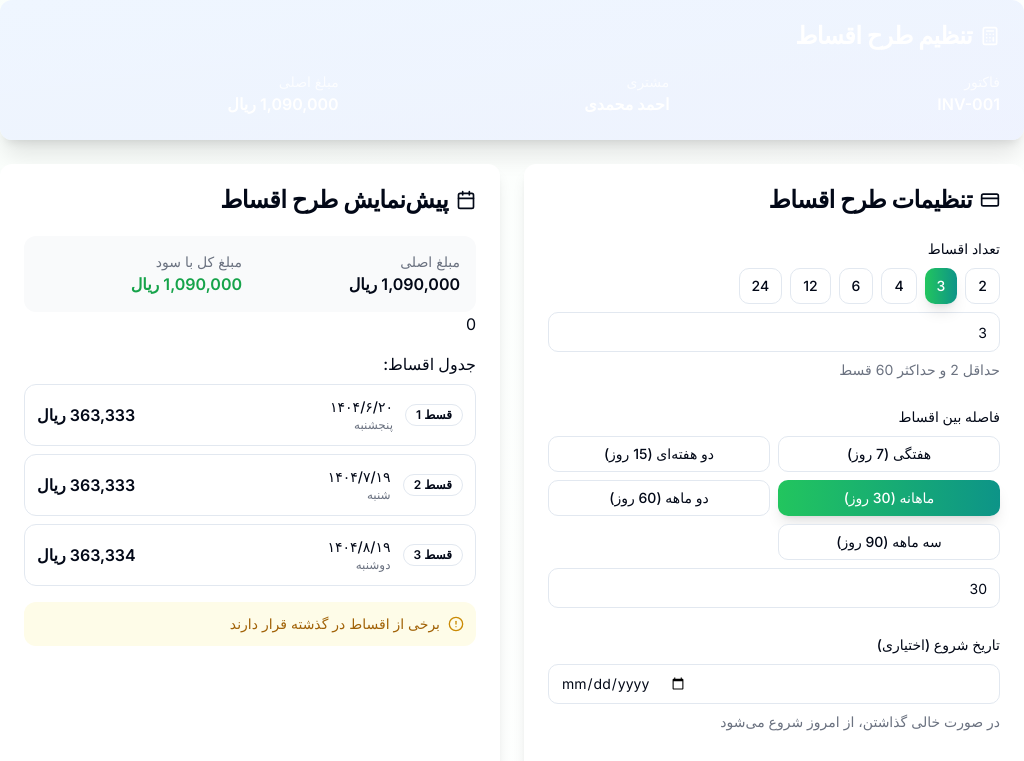
Test case: InstallmentPlanSetup › updates interval when button is clicked
Click the button "هفتگی (7 روز)" at (889, 454), box [778,436,1000,472]
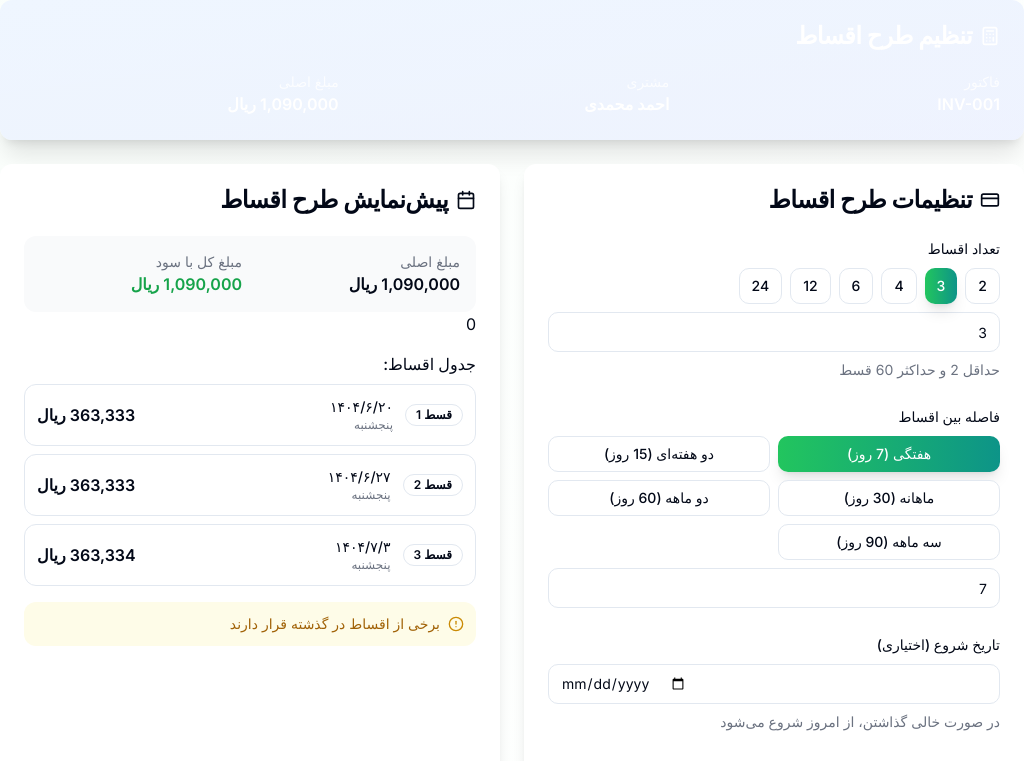
Now the number field showing "7" below "فاصله بین اقساط" is shown, box [548,568,1000,608]
